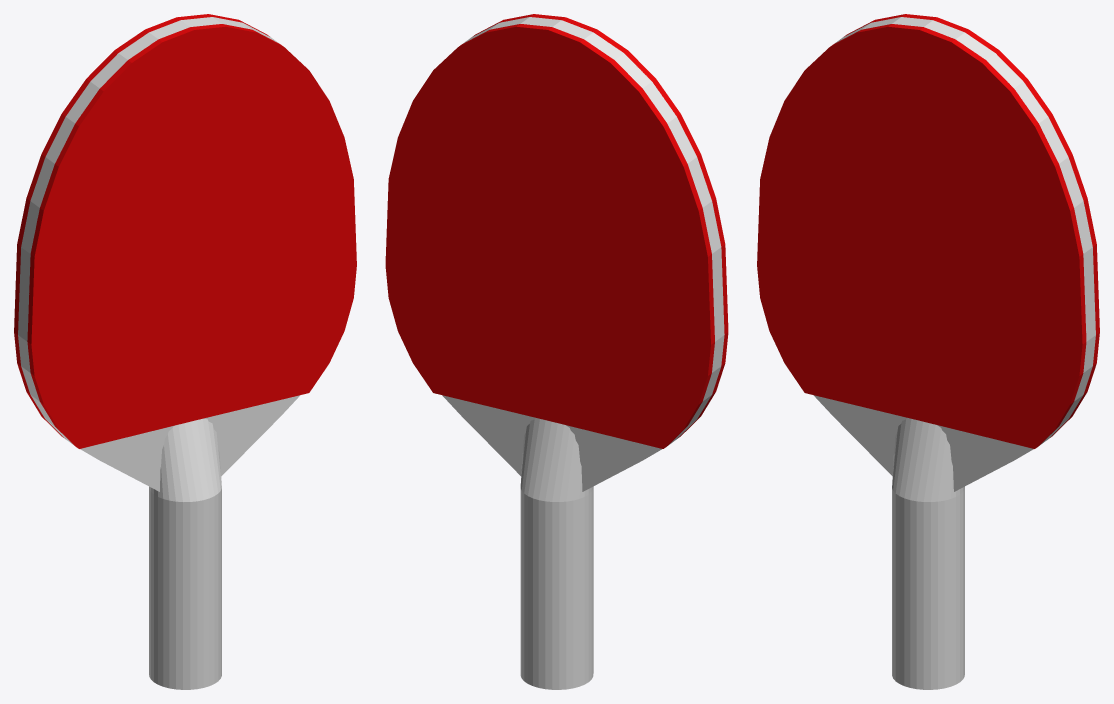
File: paddle_v2.fbx
3 views of the same model, side by side, from view 1: azimuth 30°, elevation 25°; view 2: azimuth 150°, elevation 25°; view 3: azimuth 330°, elevation 25° (orthographic).
Parts seen in each view (by area): view 1: Cylinder; view 2: Cylinder; view 3: Cylinder.
Part boxes in pixels (x1,y1,x2,y2): Cylinder: (14, 14, 356, 689); Cylinder: (385, 14, 728, 689); Cylinder: (757, 14, 1099, 689).
Bounding box in the file's own units: 0.1612 × 0.308 × 0.0314.
